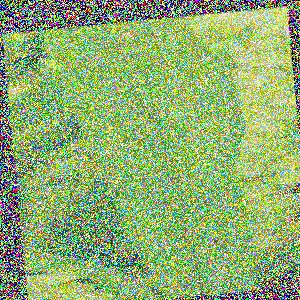Bacterial_Leaf_Blight: (172, 106, 192, 120), (220, 266, 238, 281), (194, 123, 214, 136), (144, 28, 163, 40), (200, 149, 217, 161), (174, 81, 190, 93), (161, 195, 176, 207), (189, 194, 204, 206), (201, 69, 217, 80), (181, 174, 195, 186), (208, 235, 223, 246), (132, 227, 144, 240), (178, 226, 192, 237), (148, 147, 161, 158), (179, 182, 190, 194), (163, 235, 174, 245), (129, 85, 142, 93), (120, 41, 130, 51), (121, 81, 132, 90), (149, 101, 161, 109), (150, 96, 158, 103)
